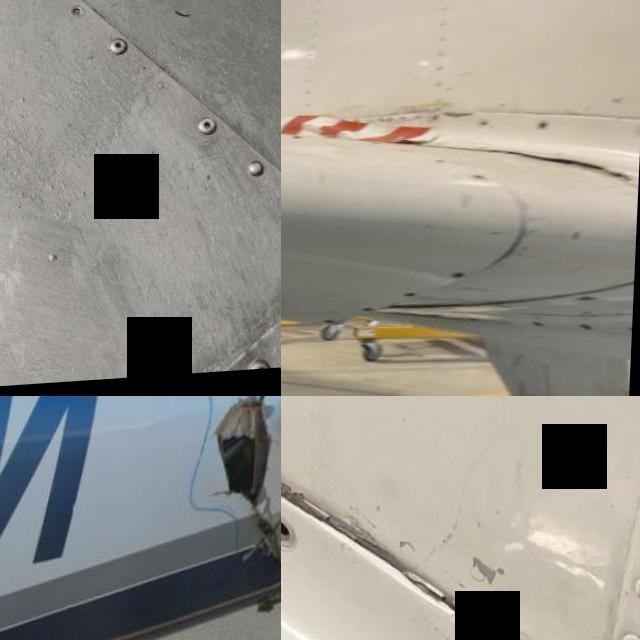Crack: (484, 142, 640, 205)
Missing_Fastener: (281, 518, 305, 546), (320, 322, 342, 332), (404, 296, 420, 308), (361, 312, 376, 321), (582, 332, 596, 341), (456, 277, 468, 287), (537, 327, 548, 336), (582, 305, 598, 311)
